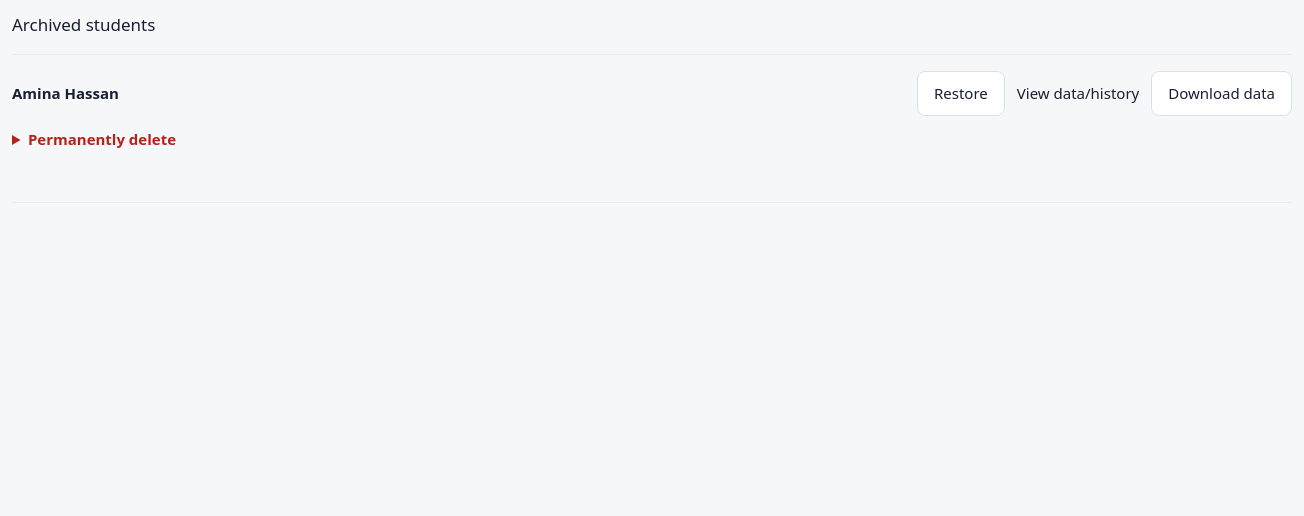
Test: archives and exports admin panels › keeps archived-student deletion impact and confirmation behind a deliberate disclosure
Expected: the heading "Amina Hassan" is shown, [12,83,119,103]
Expected: the button "Restore" is shown, [917,70,1005,116]
Step 1. Click the heading "Permanently delete" → (102,139), box [28,129,176,149]
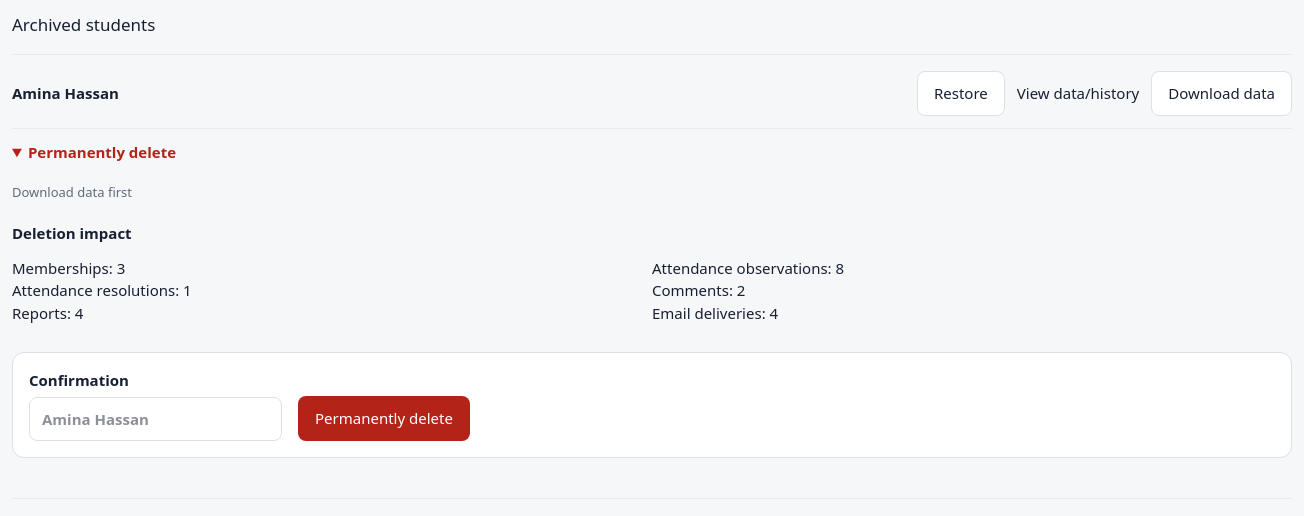
Now the text "Download data first" is shown, box [12,183,132,201]
Now the list item "Memberships: 3" is shown, box [12,258,125,278]
Now the list item "Reports: 4" is shown, box [12,303,83,323]
